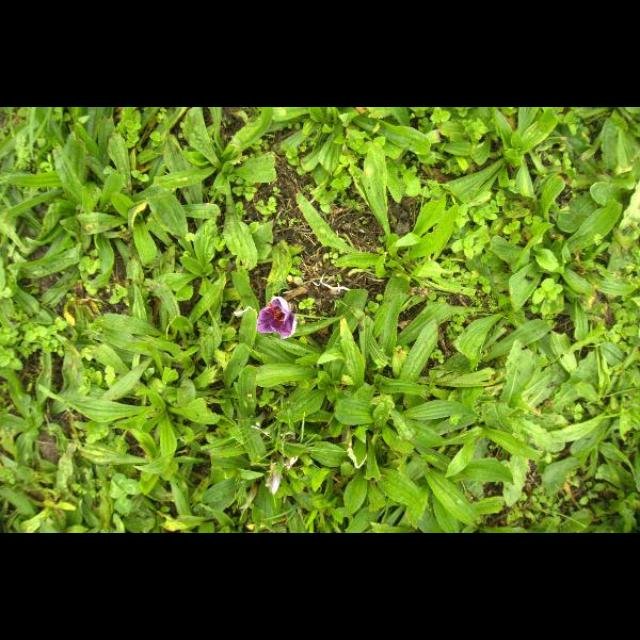flower: (256, 296, 298, 340)
